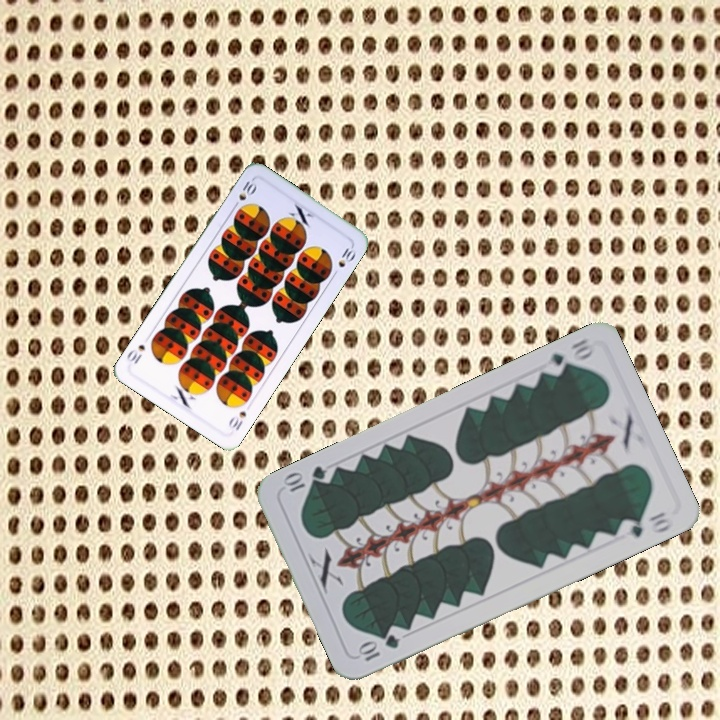G10: (539, 334, 596, 379), (353, 630, 402, 664)
S10: (229, 175, 259, 211), (224, 407, 249, 433)
